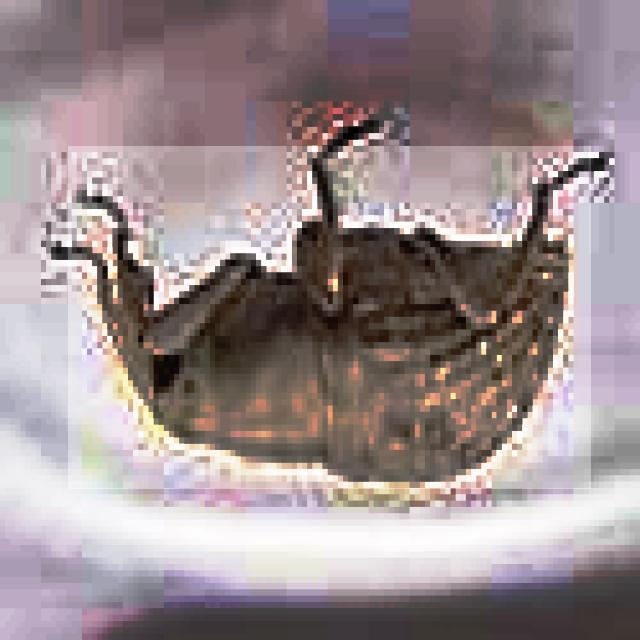rice-bug: (68, 146, 591, 489)
